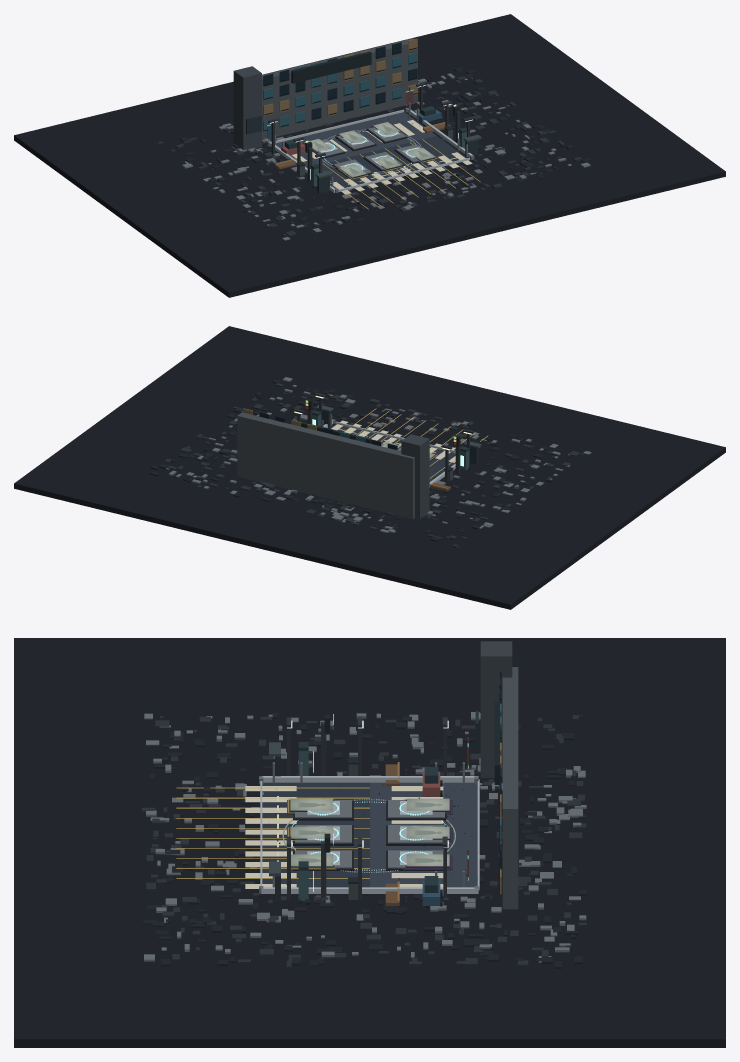
Rendered from metropolis.glb.
3 renders of one model, top to bottom at view 1: azimuth 30°, elevation 25°; view 2: azimuth 150°, elevation 25°; view 3: azimuth 270°, elevation 25°, orthographic. The views are drawn at different scales.
Visible parts, largest first — view 1: Bedrock, Outer_Rubble, City_Facade, City_Windows, Corner_Building, Enemy_Floor, Friendly_Floor, Six_Grounded_Foundations, Arena_Curb, Road_Markings, Rooftop_Sign, Street_Lamps (+3 smaller); view 2: Bedrock, City_Facade, Outer_Rubble, Corner_Building, Friendly_Floor, City_Windows, Road_Markings; view 3: Bedrock, Outer_Rubble, Enemy_Floor, Friendly_Floor, Six_Grounded_Foundations, City_Facade, Road_Markings, Corner_Building, Arena_Curb, Lane_Lines, Street_Lamps, Parked_Cars (+2 smaller).
Part boxes in pixels (box(x1,y1,x2,y2)): Bedrock: box(14, 14, 725, 297); Outer_Rubble: box(153, 67, 591, 240); City_Facade: box(262, 38, 417, 139); City_Windows: box(263, 38, 417, 131); Corner_Building: box(233, 66, 262, 150); Enemy_Floor: box(276, 112, 436, 167); Friendly_Floor: box(307, 136, 466, 192); Six_Grounded_Foundations: box(312, 127, 422, 178); Arena_Curb: box(268, 109, 472, 192); Road_Markings: box(291, 120, 472, 194); Rooftop_Sign: box(291, 51, 371, 83); Street_Lamps: box(268, 82, 473, 173); Bedrock: box(14, 326, 725, 609); City_Facade: box(237, 412, 414, 519); Outer_Rubble: box(150, 377, 591, 549); Corner_Building: box(401, 434, 429, 519); Friendly_Floor: box(330, 424, 455, 479); City_Windows: box(243, 408, 397, 450); Road_Markings: box(331, 420, 455, 462); Bedrock: box(14, 638, 725, 1047); Outer_Rubble: box(142, 712, 586, 968); Enemy_Floor: box(370, 782, 477, 887); Friendly_Floor: box(262, 782, 369, 887); Six_Grounded_Foundations: box(293, 800, 446, 870); City_Facade: box(502, 667, 518, 909); Road_Markings: box(245, 786, 443, 888); Corner_Building: box(475, 641, 512, 777); Arena_Curb: box(260, 776, 479, 893); Lane_Lines: box(176, 787, 369, 878); Street_Lamps: box(286, 717, 447, 898); Parked_Cars: box(422, 766, 443, 908).
Size of the model in its own units: 48 by 7.3 by 36.
Materials: 37 (1 with a texture image).
